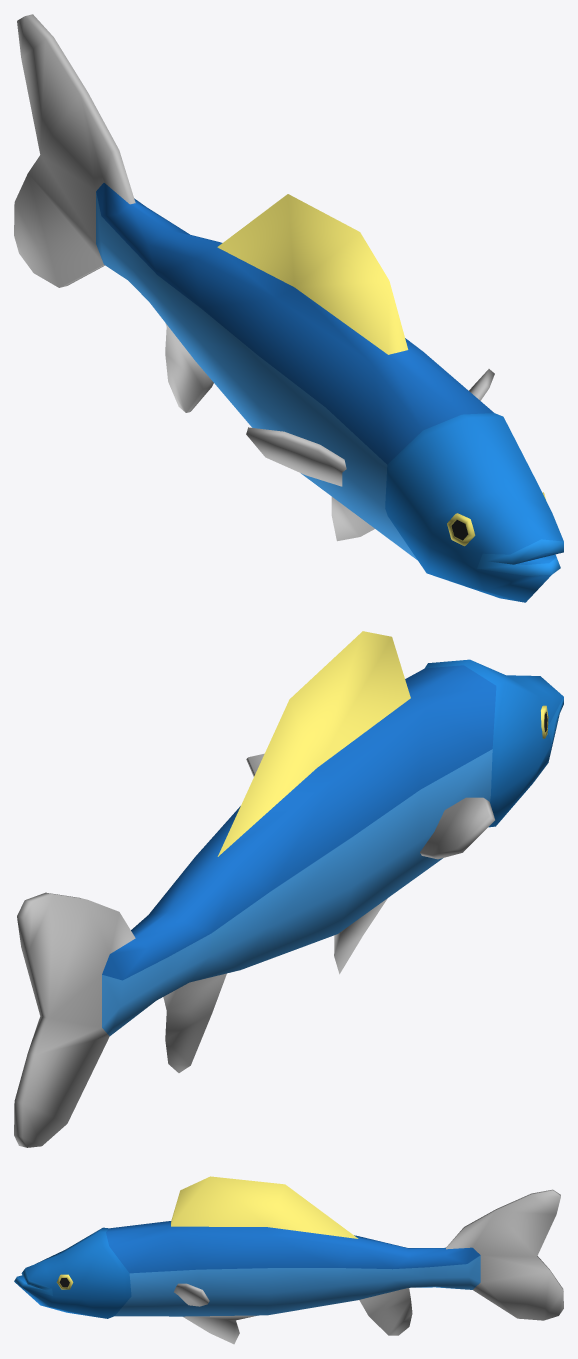
The model's file is LongBlueFish.fbx.
3 views of the same model, one above another, from view 1: azimuth 30°, elevation 25°; view 2: azimuth 150°, elevation 25°; view 3: azimuth 270°, elevation 25° (orthographic). The views are drawn at different scales.
Visible parts, largest first — view 1: Fish_004; view 2: Fish_004; view 3: Fish_004.
Part boxes in pixels (x1=…): Fish_004: x1=14, y1=14, x2=563, y2=602; Fish_004: x1=14, y1=631, x2=563, y2=1147; Fish_004: x1=14, y1=1176, x2=563, y2=1344.
Bounding box in the file's own units: 34.39 × 43.09 × 128.
